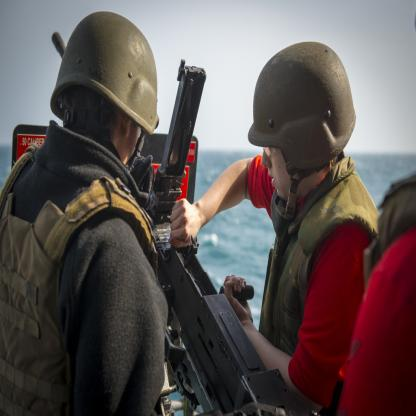Helmet: (241, 42, 356, 233), (48, 19, 157, 158)
